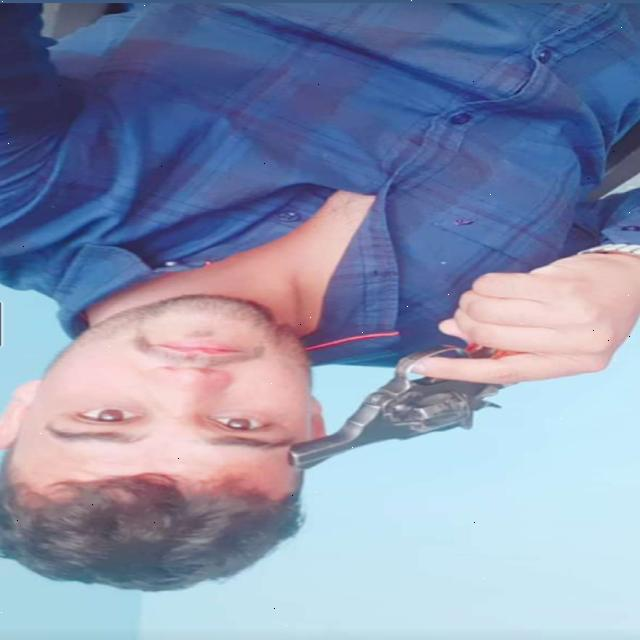gun: (285, 315, 581, 481)
